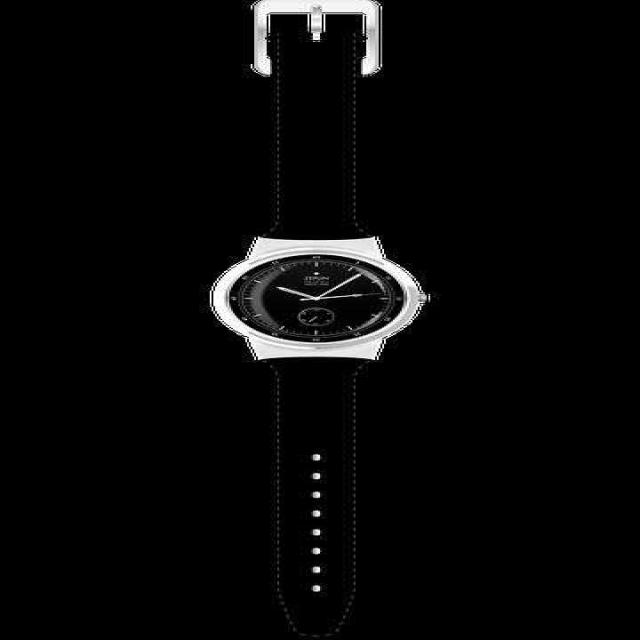watch: (213, 250, 420, 352)
